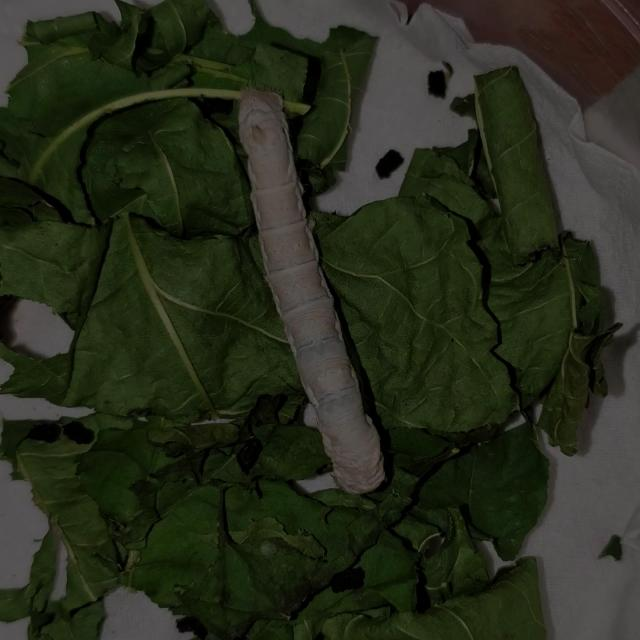Healthy: (221, 74, 409, 514)
